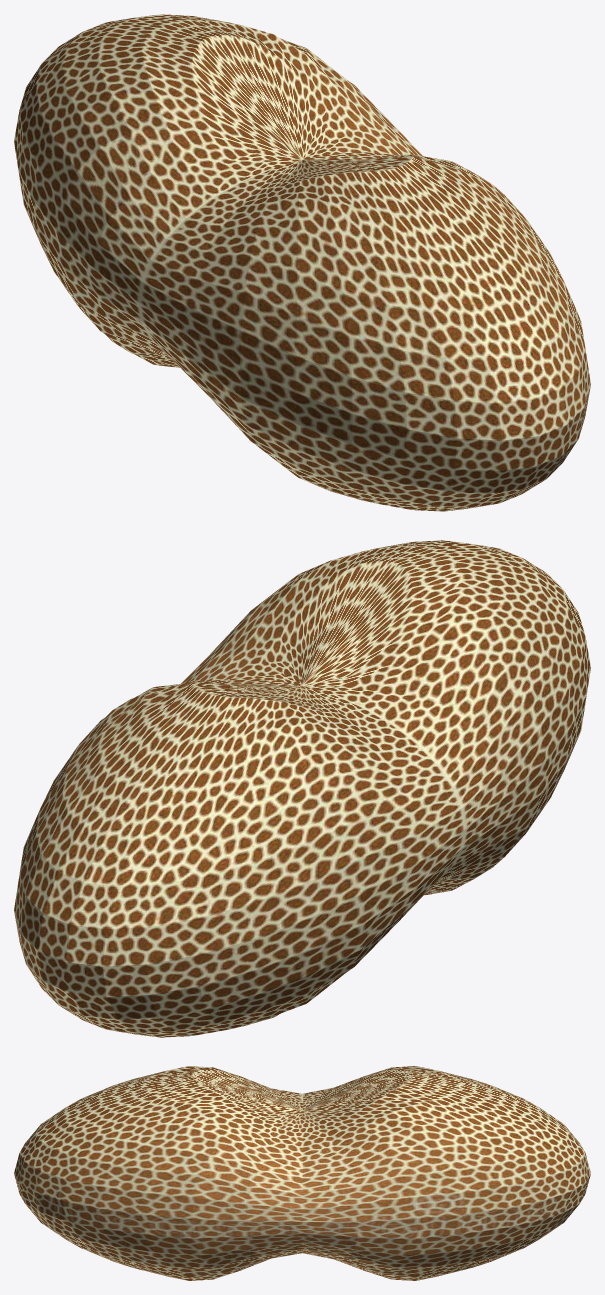
The model's file is peanut.gltf.
The picture shows the model from 3 angles, top to bottom: view 1: azimuth 30°, elevation 25°; view 2: azimuth 150°, elevation 25°; view 3: azimuth 270°, elevation 25°; orthographic projection. The views are drawn at different scales.
Visible parts, largest first — view 1: Sphere; view 2: Sphere; view 3: Sphere.
Part boxes in pixels (left/top/right/bottom): Sphere: left=14, top=14, right=590, bottom=511; Sphere: left=14, top=540, right=590, bottom=1037; Sphere: left=14, top=1066, right=590, bottom=1280.
Bounding box in the file's own units: 2.12 × 1.99 × 5.33.
1 material, 1 textured.
